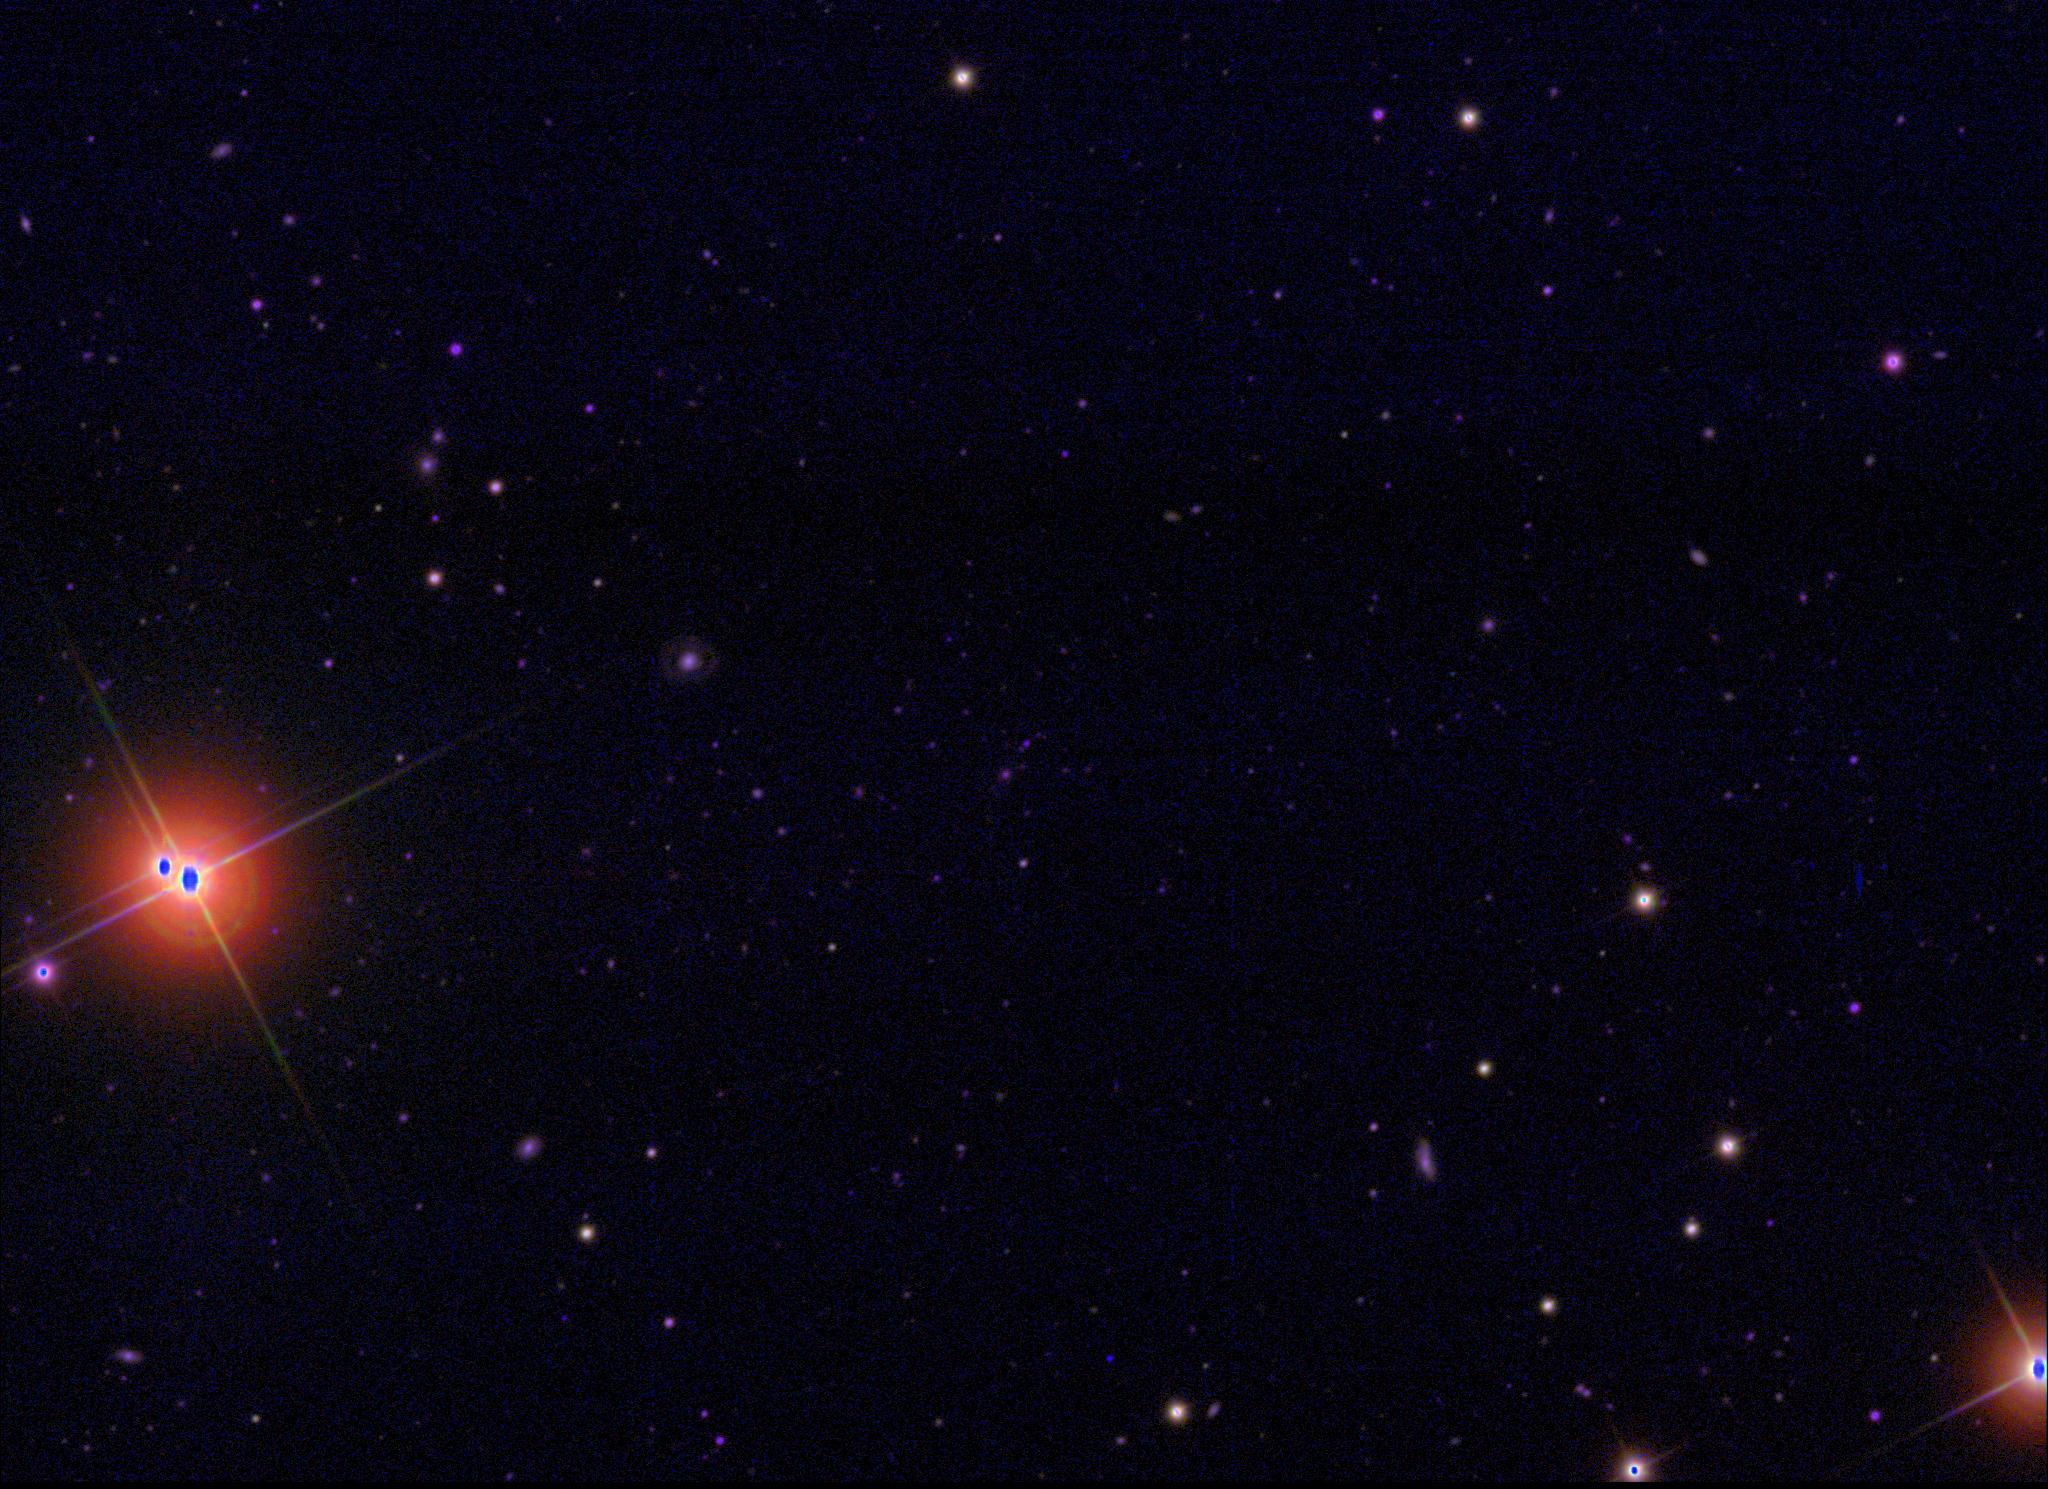L: (1107, 1349, 1119, 1363)
